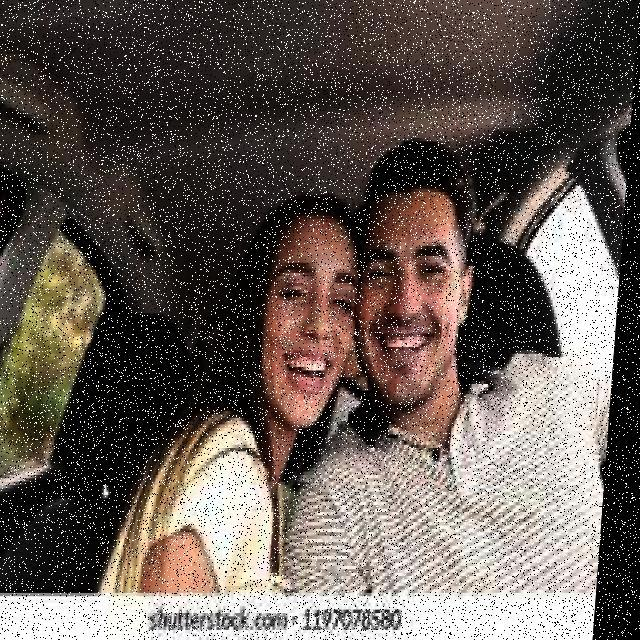noSeatbelt: (312, 350, 620, 592)
